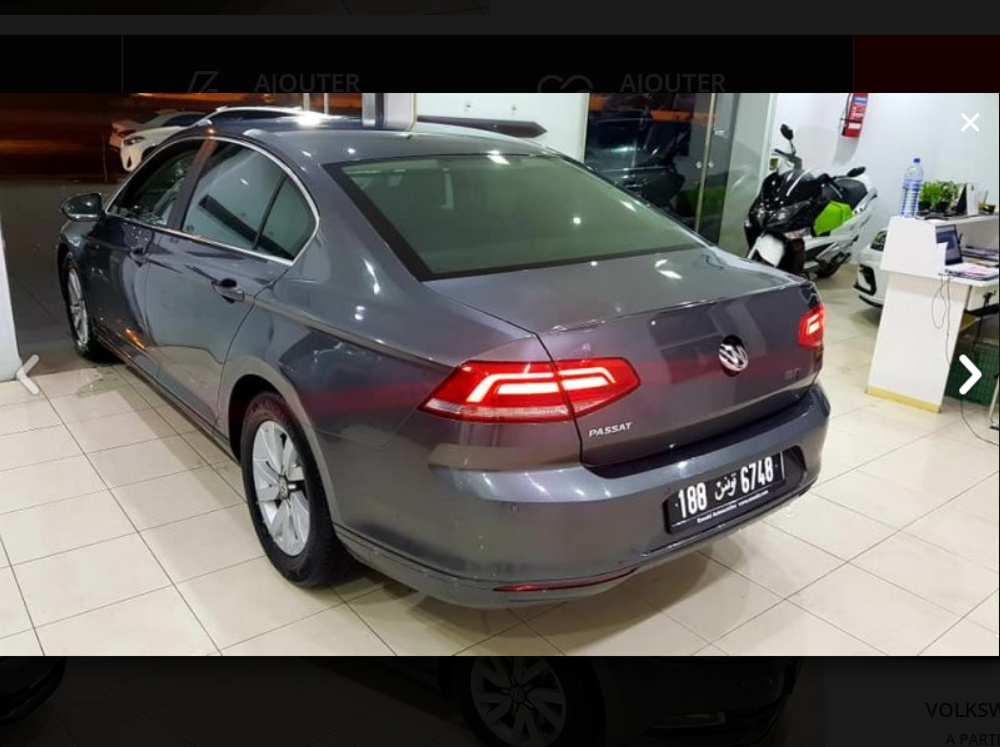LP: (665, 450, 792, 532)
